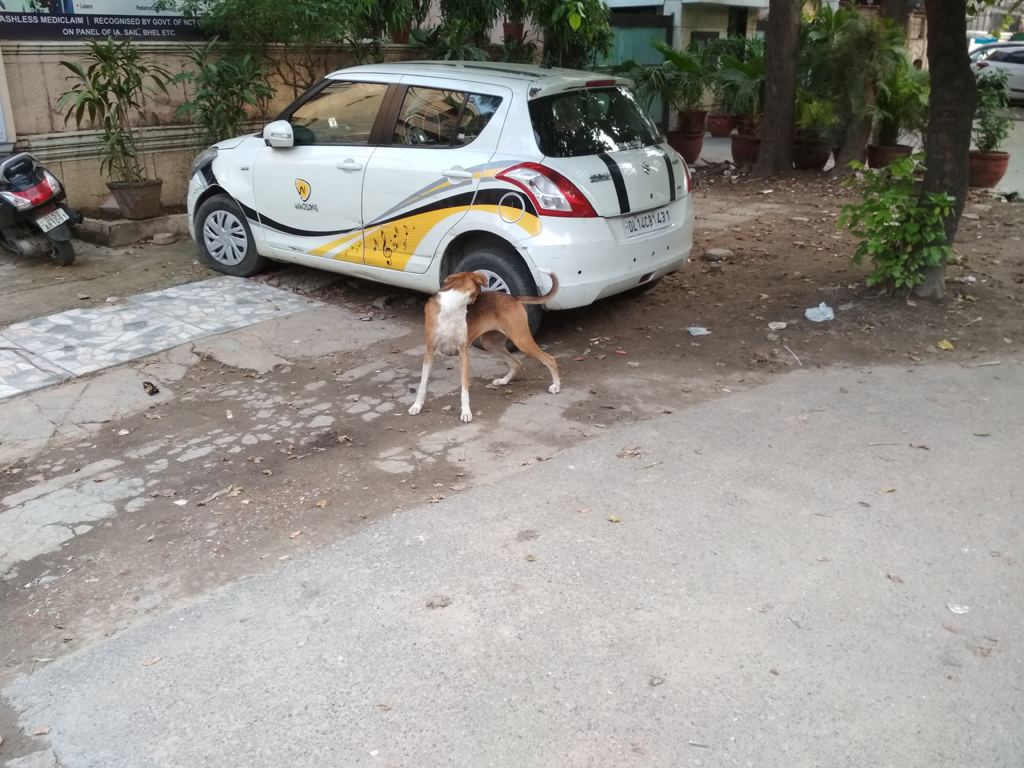dog: (408, 268, 561, 422)
